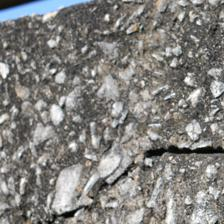Crack: (26, 71, 196, 147)
